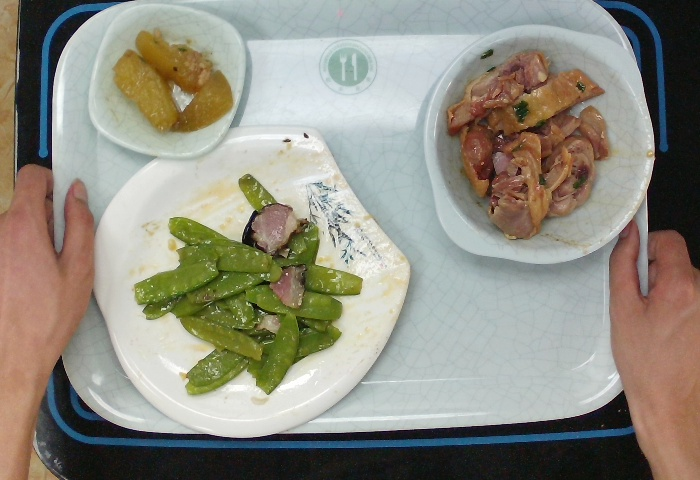JYsf-Mian_Pan: (89, 122, 424, 442)
JYsf-Shuang_Er_Wan: (422, 18, 662, 270)
JYsf-Si_Fang_Die: (80, 1, 253, 163)
